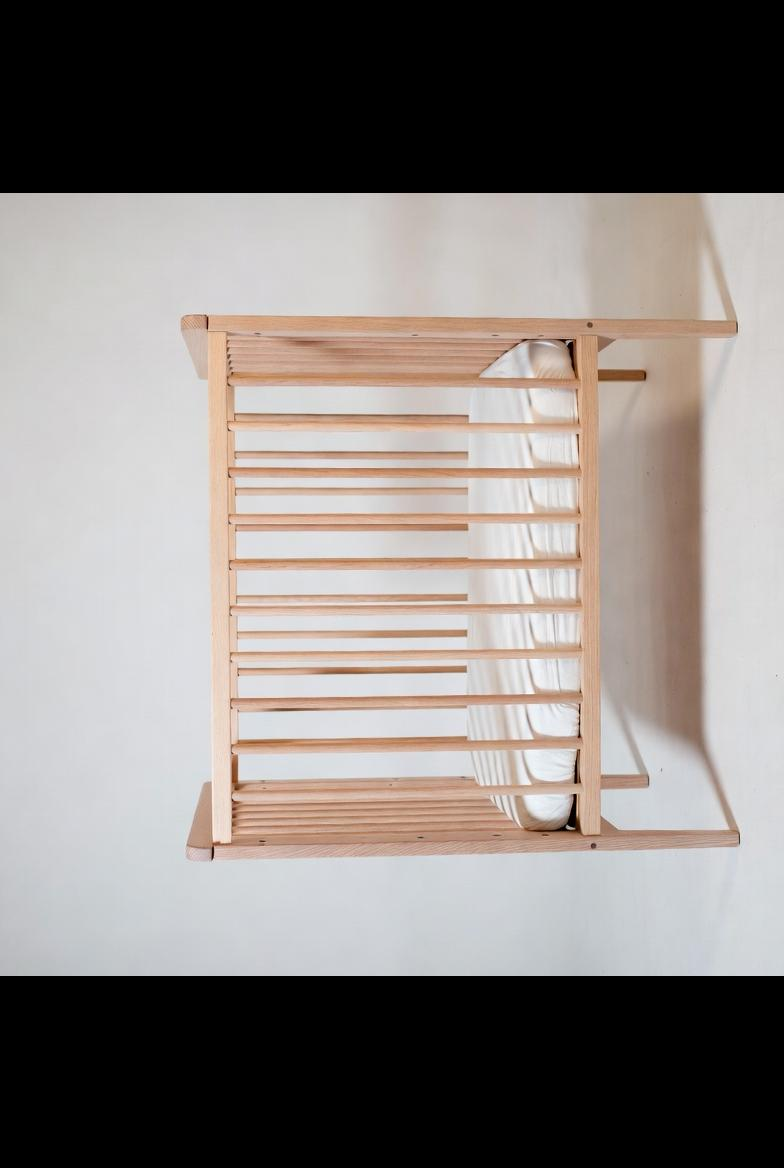crib: (182, 315, 738, 860)
